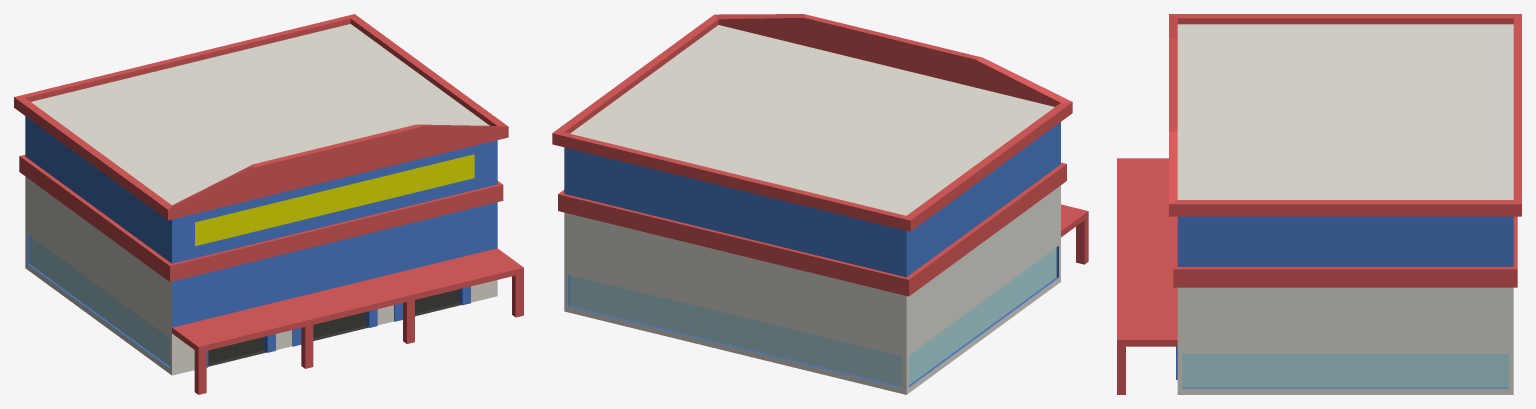
Rendered from SuperStore01.fbx.
The picture shows the model from 3 angles, left to right: view 1: azimuth 30°, elevation 25°; view 2: azimuth 150°, elevation 25°; view 3: azimuth 270°, elevation 25°; orthographic projection. The views are drawn at different scales.
Visible parts, largest first — view 1: SuperStore01; view 2: SuperStore01; view 3: SuperStore01.
Part boxes in pixels (box(x1,y1,x2,y2)): SuperStore01: box(14, 14, 523, 394); SuperStore01: box(552, 14, 1088, 394); SuperStore01: box(1117, 14, 1521, 394).
Bounding box in the file's own units: 335 × 180 × 301.
